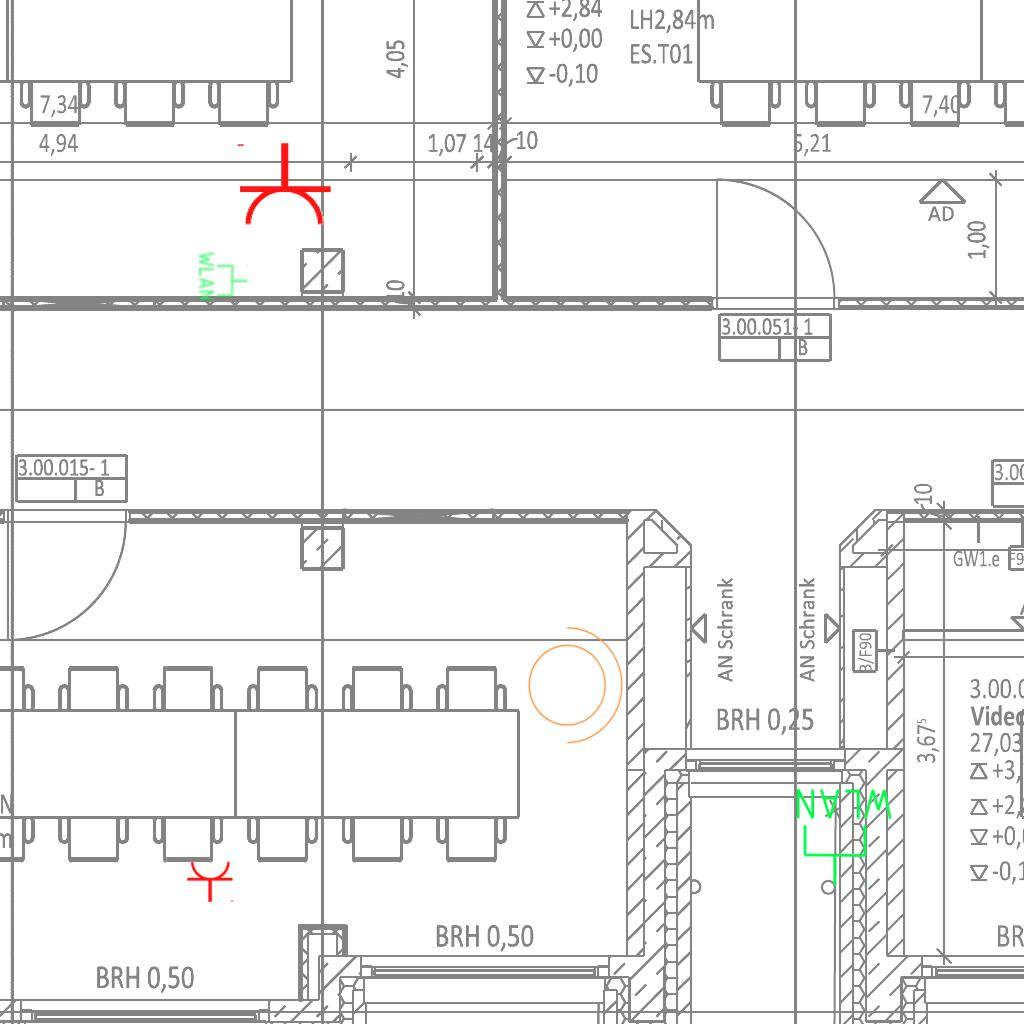Scheinwerfer_fuer_Alarmbeleuchtung: (516, 616, 628, 748)
Schukosteckdose_einfach: (233, 141, 333, 228), (186, 860, 236, 903)
WLAN: (792, 785, 897, 889), (197, 250, 249, 302)
